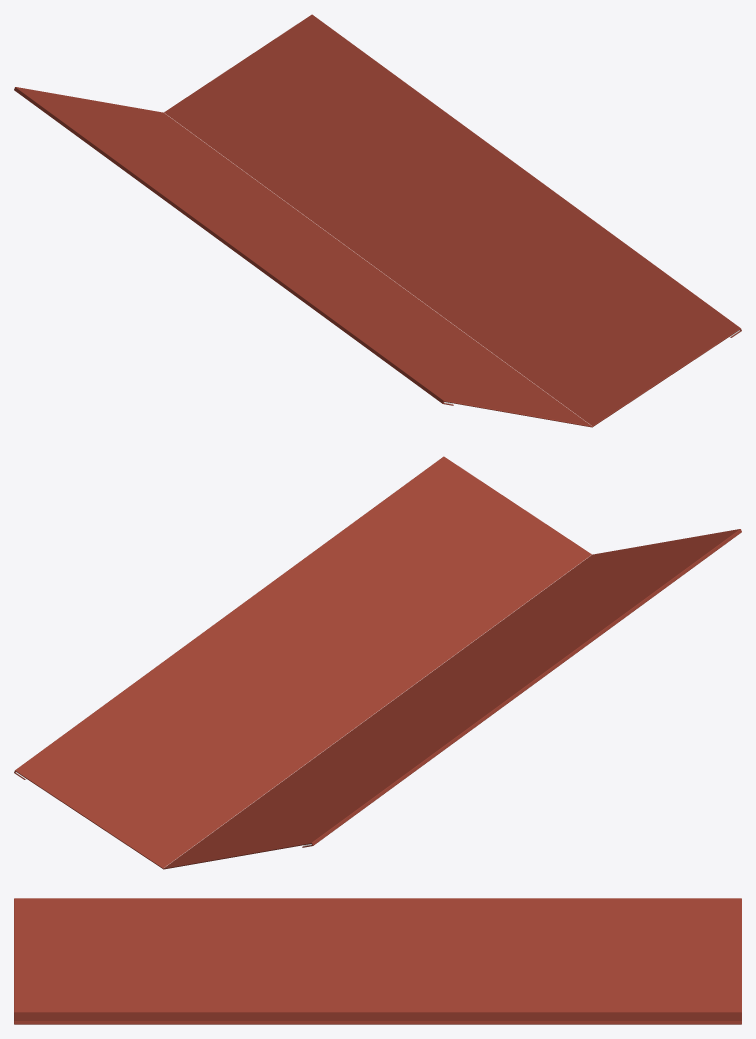
3 views of the same model, one above another, from view 1: azimuth 30°, elevation 25°; view 2: azimuth 150°, elevation 25°; view 3: azimuth 270°, elevation 25° (orthographic). The views are drawn at different scales.
Visible parts, largest first — view 1: w1ll-k; view 2: w1ll-k; view 3: w1ll-k.
Boxes of the visible parts, left/top/right/bottom form: w1ll-k: left=14, top=14, right=741, bottom=427; w1ll-k: left=14, top=456, right=741, bottom=869; w1ll-k: left=14, top=898, right=741, bottom=1024.
Size of the model in its own units: 807 by 163 by 2002.
